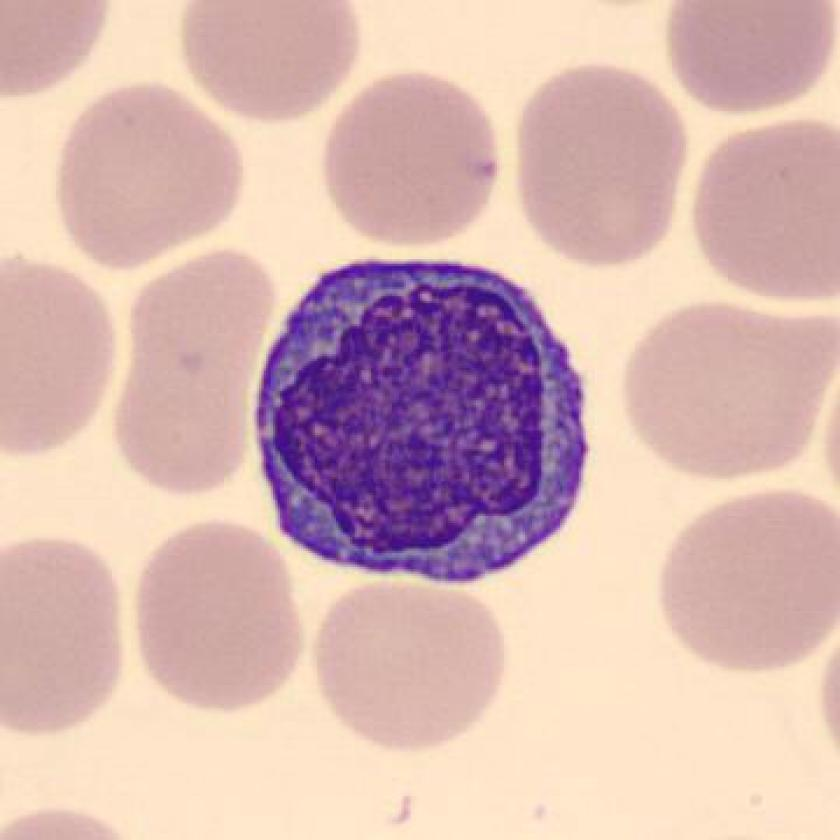monocyte: (234, 237, 608, 607)
